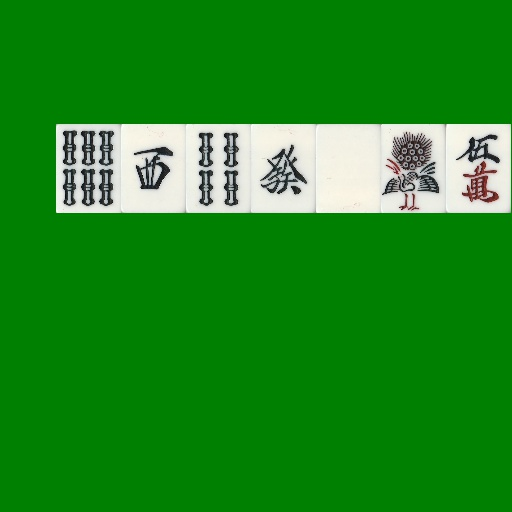1s: (381, 124, 446, 213)
4s: (186, 124, 251, 213)
5m: (446, 124, 511, 213)
6s: (56, 124, 121, 213)
hatsu: (251, 124, 316, 213)
west: (121, 124, 186, 213)
white: (316, 124, 381, 213)
